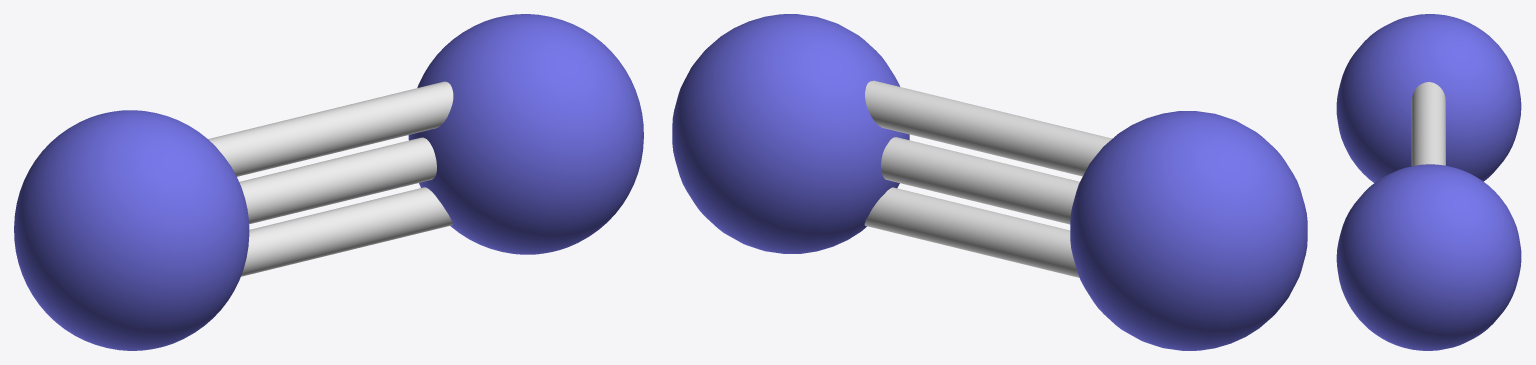
3 views of the same model, side by side, from view 1: azimuth 30°, elevation 25°; view 2: azimuth 150°, elevation 25°; view 3: azimuth 270°, elevation 25° (orthographic). The views are drawn at different scales.
Visible parts, largest first — view 1: N2; view 2: N2; view 3: N2.
Part boxes in pixels (x1,y1,x2,y2): N2: (14, 14, 643, 350); N2: (672, 14, 1307, 350); N2: (1336, 14, 1521, 350).
Size of the model in its own units: 2.22 by 0.7695 by 0.7592.
